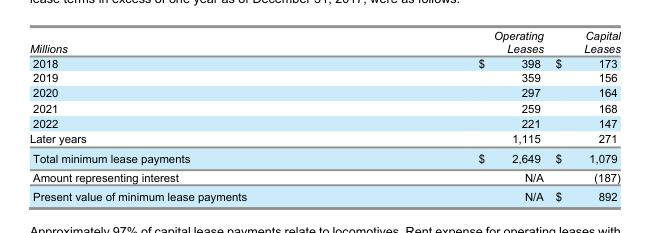table: (28, 28, 619, 202)
table column: (28, 28, 361, 202), (361, 28, 548, 202), (548, 28, 619, 202)
table column header: (28, 28, 619, 55)
table row: (28, 28, 619, 55), (28, 147, 619, 167), (28, 167, 619, 186), (28, 130, 619, 147), (28, 84, 619, 100), (28, 186, 619, 202), (28, 55, 619, 70), (28, 100, 619, 115), (28, 115, 619, 130), (28, 70, 619, 84)
